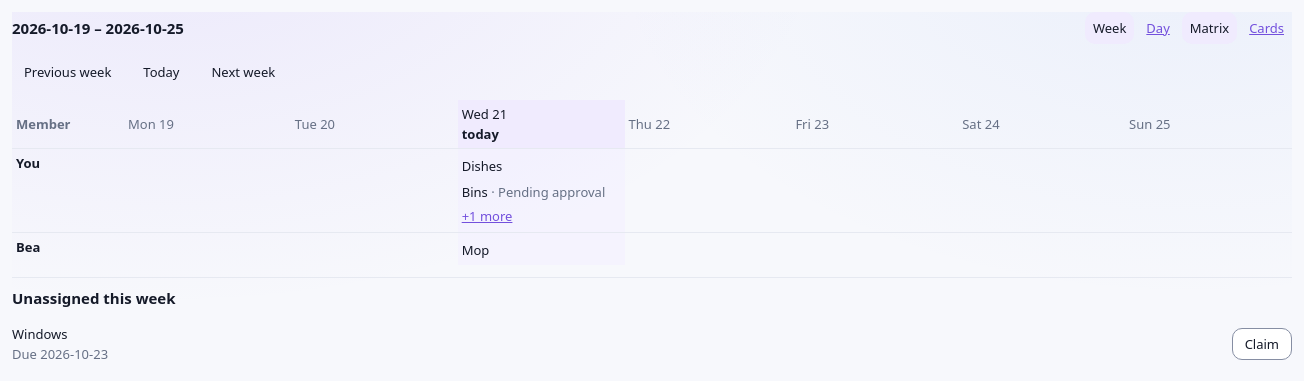
Test: the Chore schedule widget › lists the week's unassigned chores to claim, filtered in Day view with the whole week a step away
Check: the text "Windows" is shown, box [12,325,68,343]
Check: the button with test id "chore-claim" is shown, box [1232,328,1292,360]
Click the button with test id "chore-schedule-day" at (1158, 28), box [1138,12,1178,44]
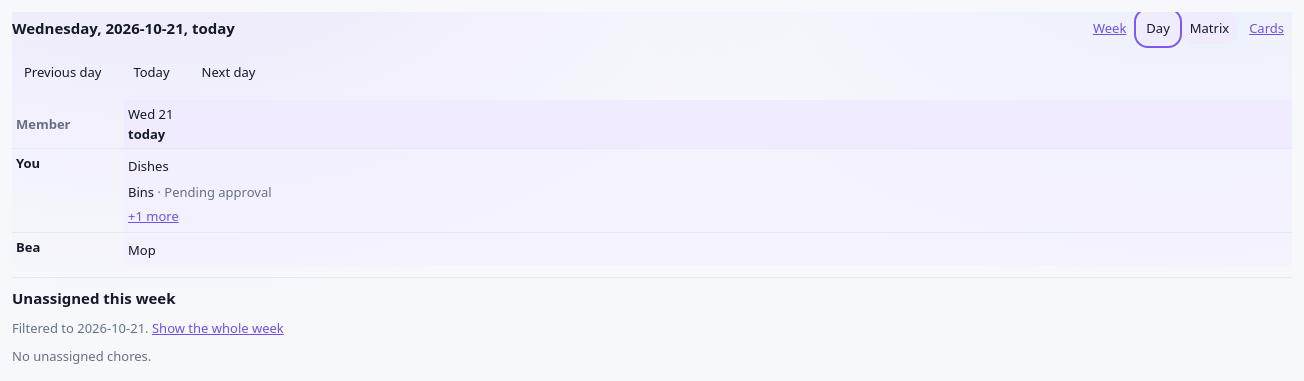
Check: the text with test id "chore-schedule-title" shows "Wednesday", box [12,18,235,38]
Check: the link "Windows" is gone
Check: the text "Filtered to 2026-10-21." is shown, box [12,319,149,337]
Click the button with test id "chore-schedule-whole-week" at (218, 328), box [152,318,284,338]
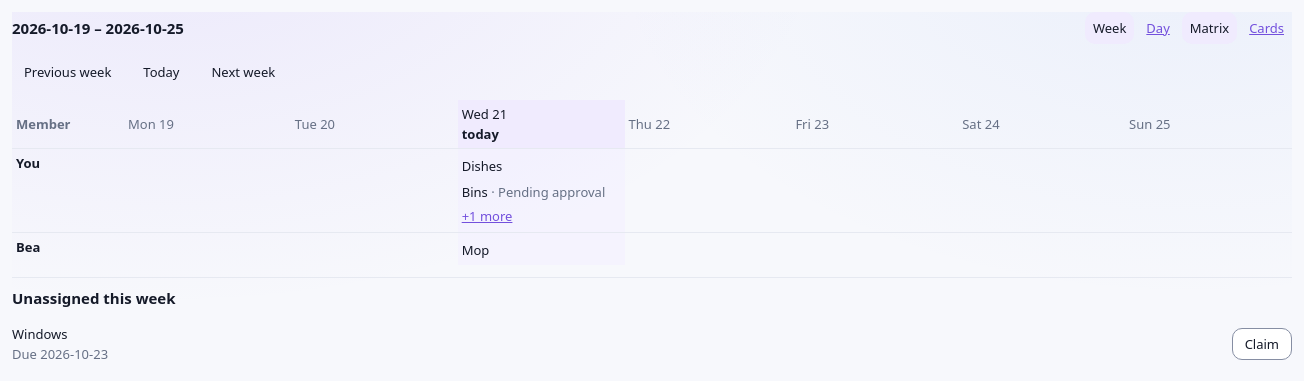
Check: the text "Windows" is shown, box [12,325,68,343]
